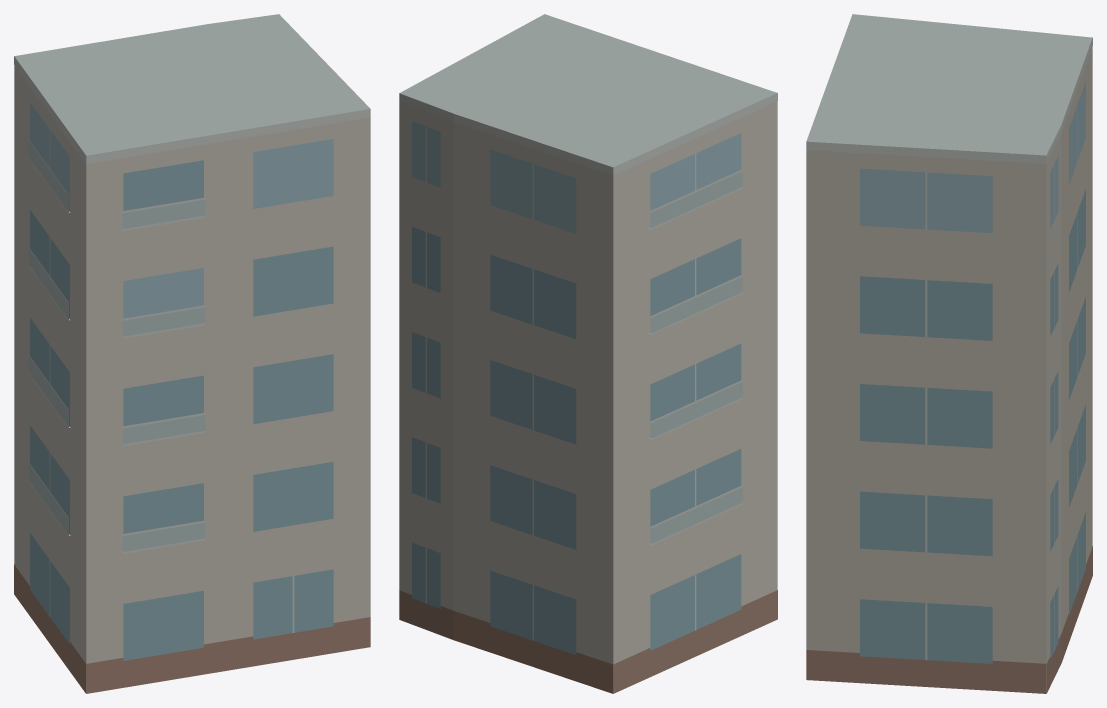
The model's file is survey-upis-32894715.glb.
The picture shows the model from 3 angles, left to right: view 1: azimuth 30°, elevation 25°; view 2: azimuth 150°, elevation 25°; view 3: azimuth 270°, elevation 25°; orthographic projection. The views are drawn at different scales.
Parts seen in each view (by area): view 1: survey-upis-32894715.tmp; view 2: survey-upis-32894715.tmp; view 3: survey-upis-32894715.tmp.
Boxes of the visible parts, x1,y1,x2,y2 form: survey-upis-32894715.tmp: (14, 14, 370, 693); survey-upis-32894715.tmp: (399, 14, 777, 693); survey-upis-32894715.tmp: (806, 14, 1092, 693).
Bounding box in the file's own units: 8.86 × 15.7 × 7.58.
